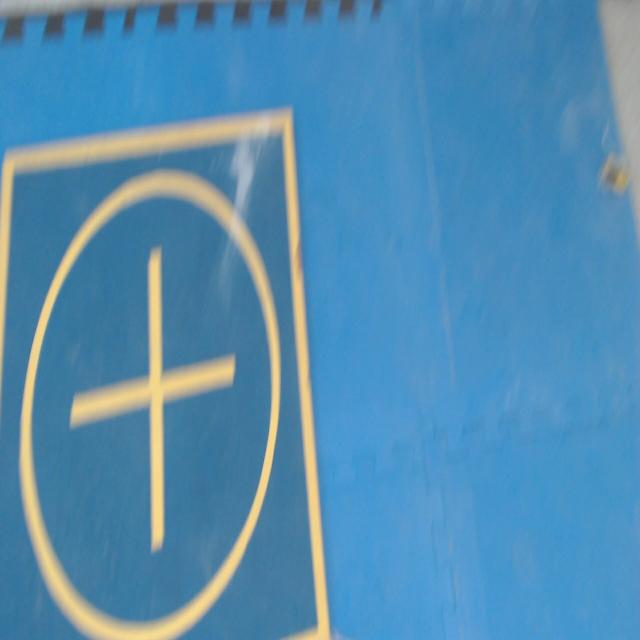base_pouso: (0, 107, 333, 639)
